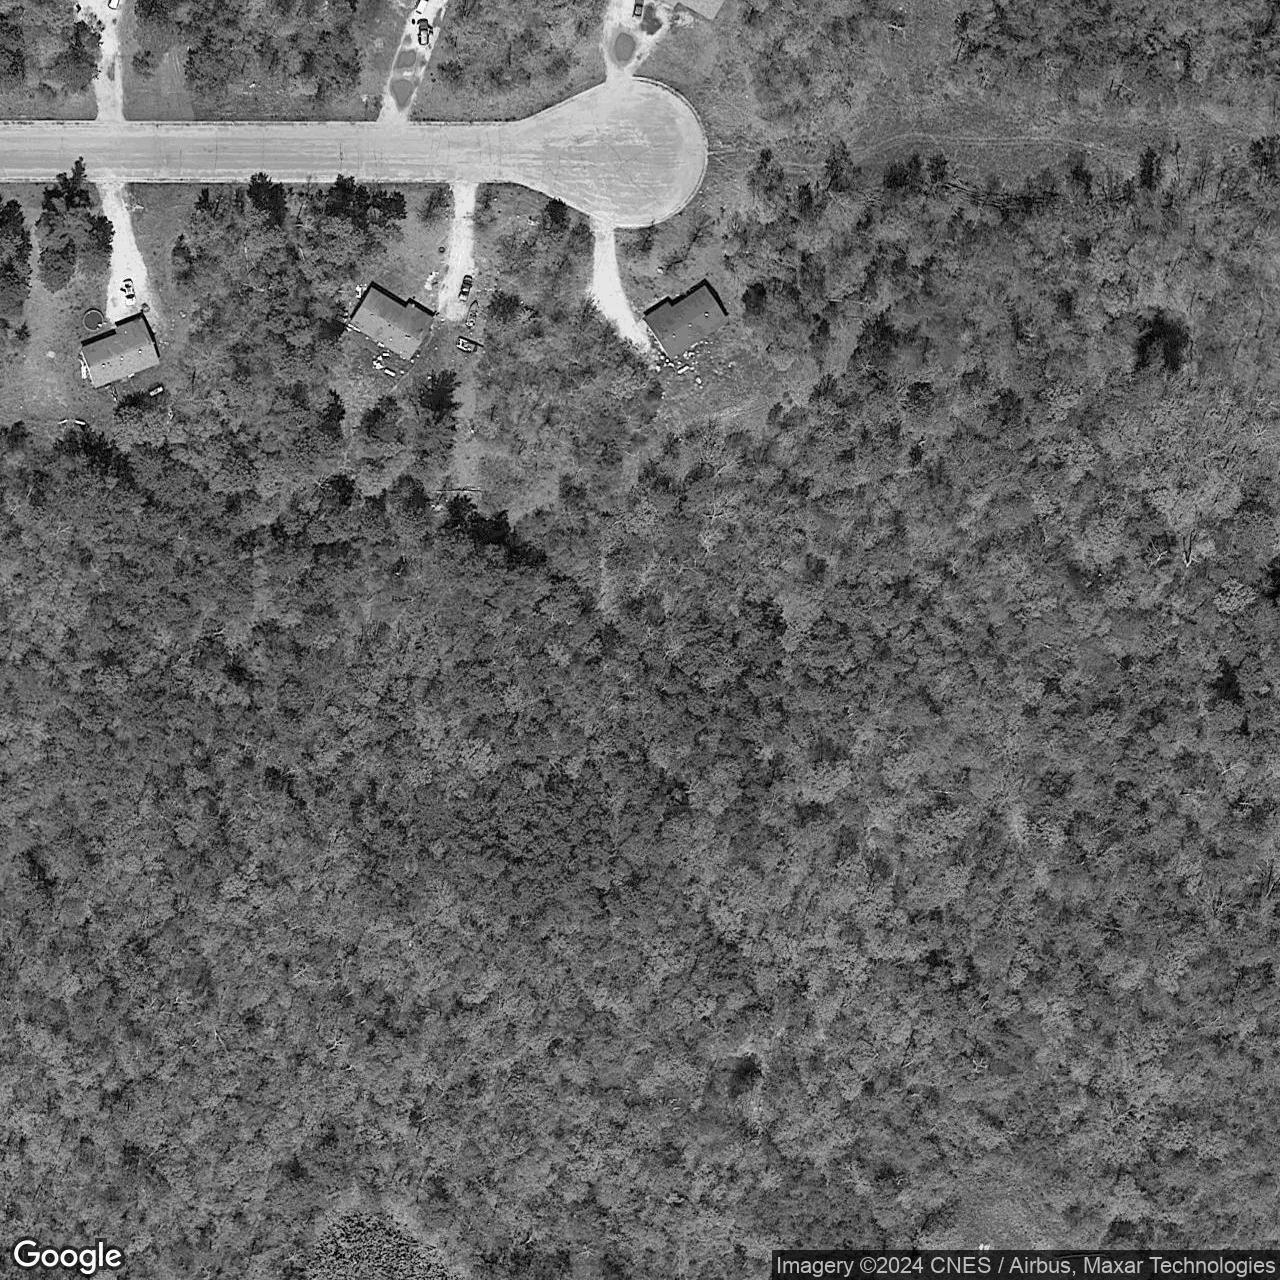House: (347, 285, 436, 362), (642, 284, 728, 362), (79, 316, 162, 390), (678, 0, 724, 20)
Propane: (147, 383, 166, 399), (675, 362, 692, 376), (382, 366, 397, 380)
